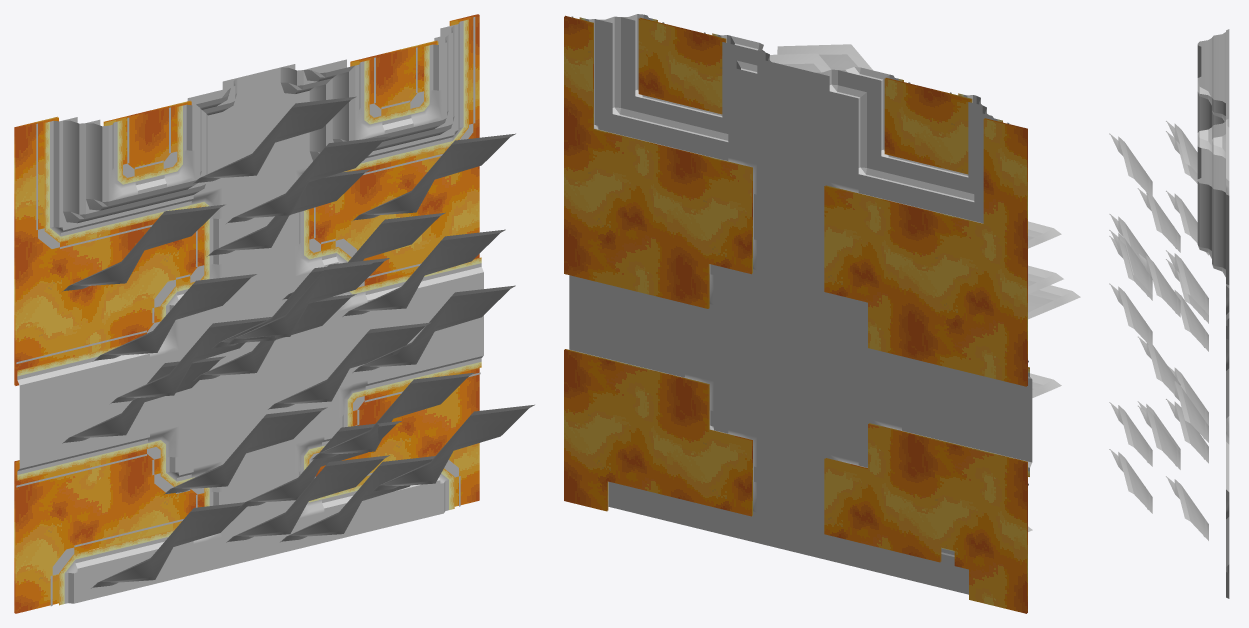
File: Molten-Cave_01_01.obj
3 renders of one model, left to right at view 1: azimuth 30°, elevation 25°; view 2: azimuth 150°, elevation 25°; view 3: azimuth 270°, elevation 25°, orthographic. The views are drawn at different scales.
Visible parts, largest first — view 1: map; view 2: map; view 3: map.
Boxes of the visible parts, x1=… form: map: x1=14, y1=14, x2=534, y2=613; map: x1=564, y1=14, x2=1080, y2=613; map: x1=1109, y1=29, x2=1229, y2=598.
Bounding box in the file's own units: 32.58 × 32 × 8.9.
